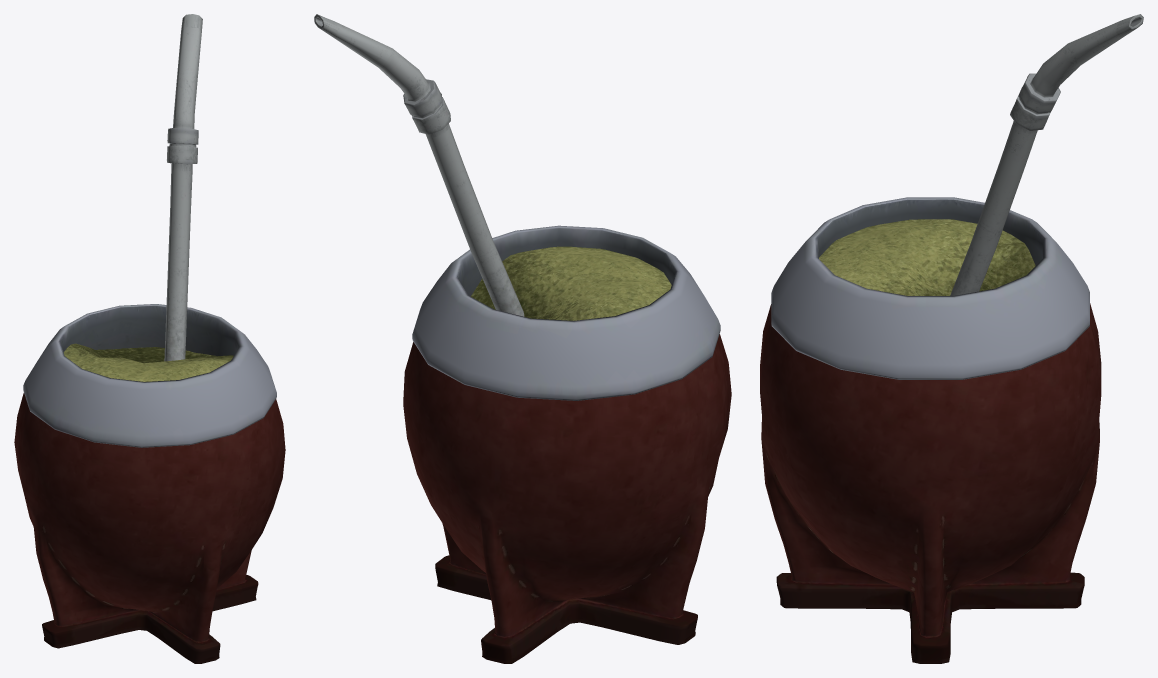
File: matesuli-transformed.glb
The picture shows the model from 3 angles, left to right: view 1: azimuth 30°, elevation 25°; view 2: azimuth 150°, elevation 25°; view 3: azimuth 270°, elevation 25°; orthographic projection. The views are drawn at different scales.
Parts seen in each view (by area): view 1: defaultMaterial (×4); view 2: defaultMaterial (×4); view 3: defaultMaterial (×4).
Part boxes in pixels (x1,y1,x2,y2): defaultMaterial (×4): (14, 14, 285, 663); defaultMaterial (×4): (314, 14, 731, 663); defaultMaterial (×4): (760, 14, 1143, 663).
Size of the model in its own units: 0.9946 by 2 by 1.05.
4 materials, 4 textured.
